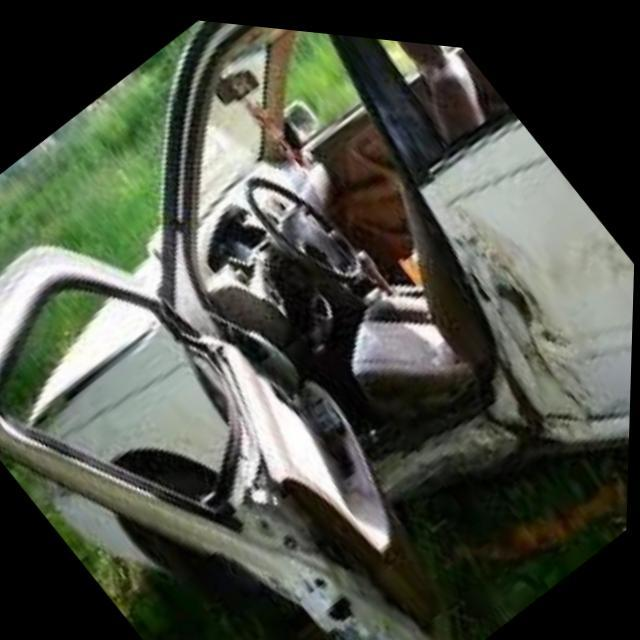dislocated part: (0, 187, 612, 640)
